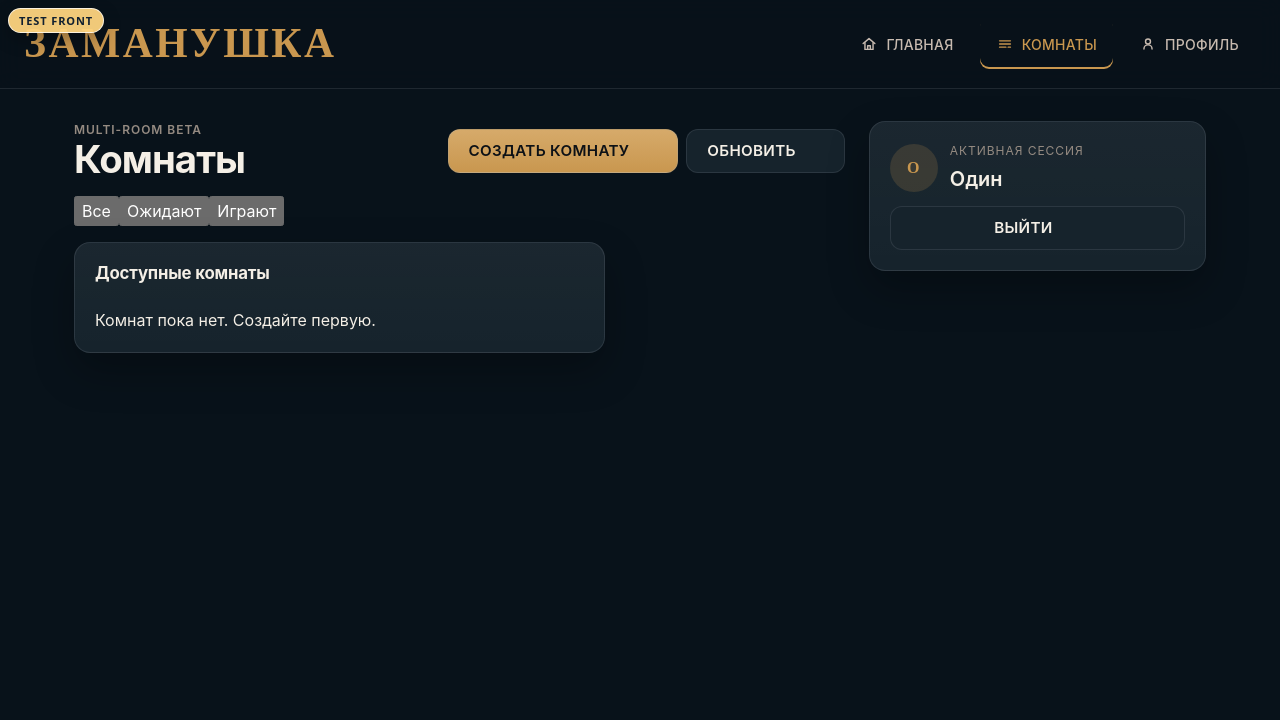
Test case: EPIC-01 app lifecycle › returns to the browser fallback after logout when Telegram is unavailable and development auth is disabled
This screenshot has width=1280, height=720.
Click the button "Выйти" at [1037, 228], box [890,206,1185,250]
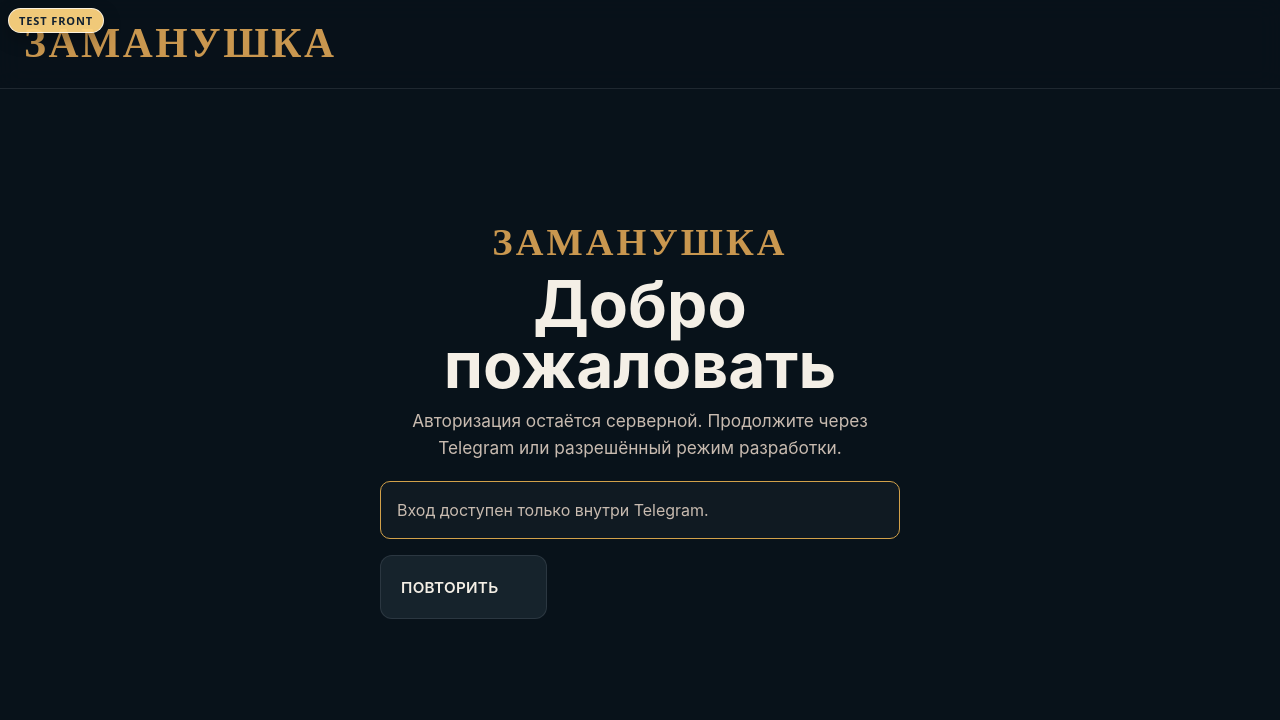
Result: the message shows "Telegram" at [397,500,709,520]
